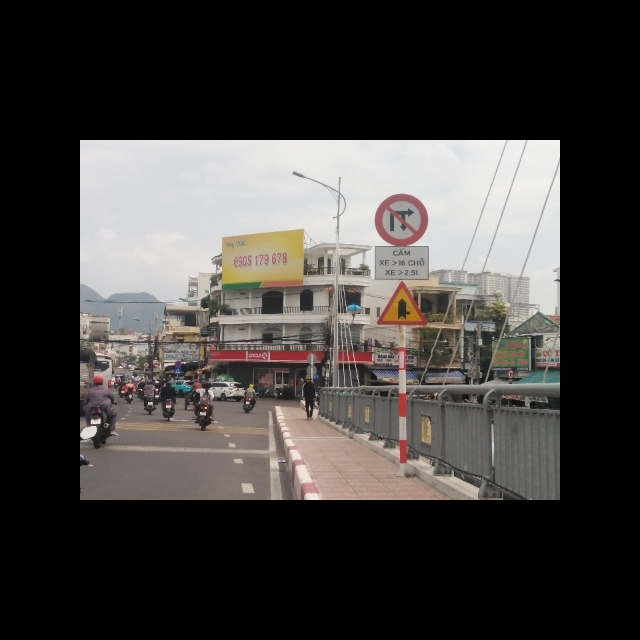Cấm quay đầu và rẽ phải: (372, 193, 429, 246)
Giao nhau với đường không ưu tiên: (374, 280, 429, 325)
